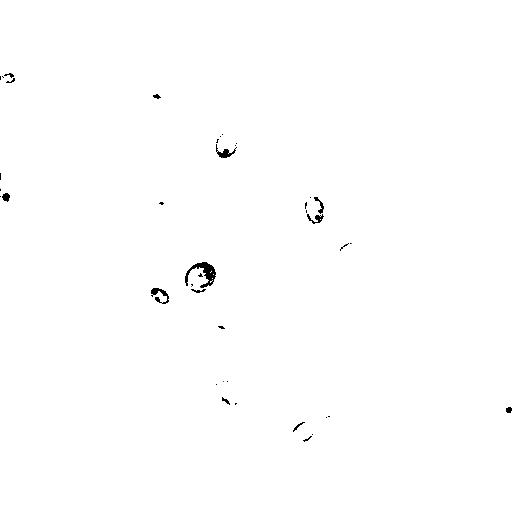micro-algae: (139, 187, 177, 227), (207, 379, 247, 412), (183, 259, 217, 295), (214, 129, 239, 161), (0, 176, 22, 210), (337, 240, 366, 265), (303, 195, 325, 225), (291, 420, 316, 443), (149, 286, 172, 307), (495, 397, 512, 419), (199, 186, 214, 207), (1, 71, 16, 85)
